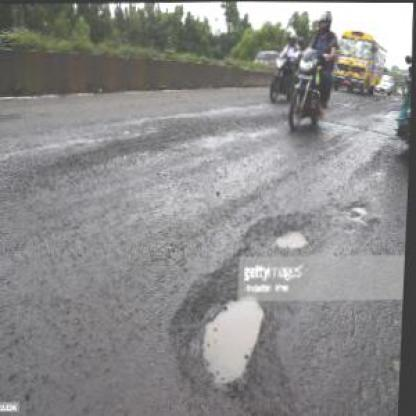pothole: (165, 264, 301, 414), (238, 207, 324, 255), (340, 197, 374, 229)
